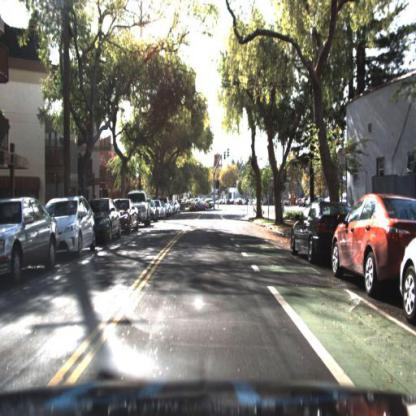car: (324, 188, 404, 299), (326, 192, 413, 294), (0, 192, 58, 288), (286, 192, 338, 274), (55, 190, 98, 256), (84, 193, 122, 243), (398, 231, 415, 336), (95, 194, 124, 247), (118, 194, 138, 236), (136, 189, 151, 225), (149, 195, 159, 224), (230, 194, 242, 206)
